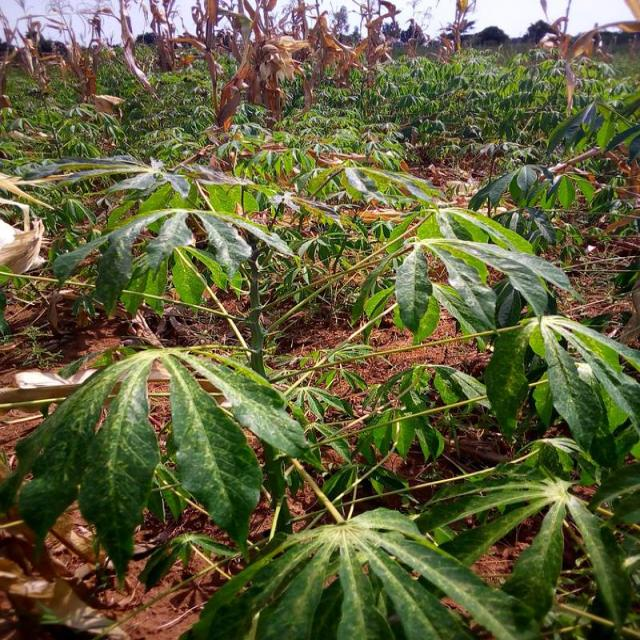cassava leaf: (6, 344, 308, 573), (164, 352, 264, 556)
